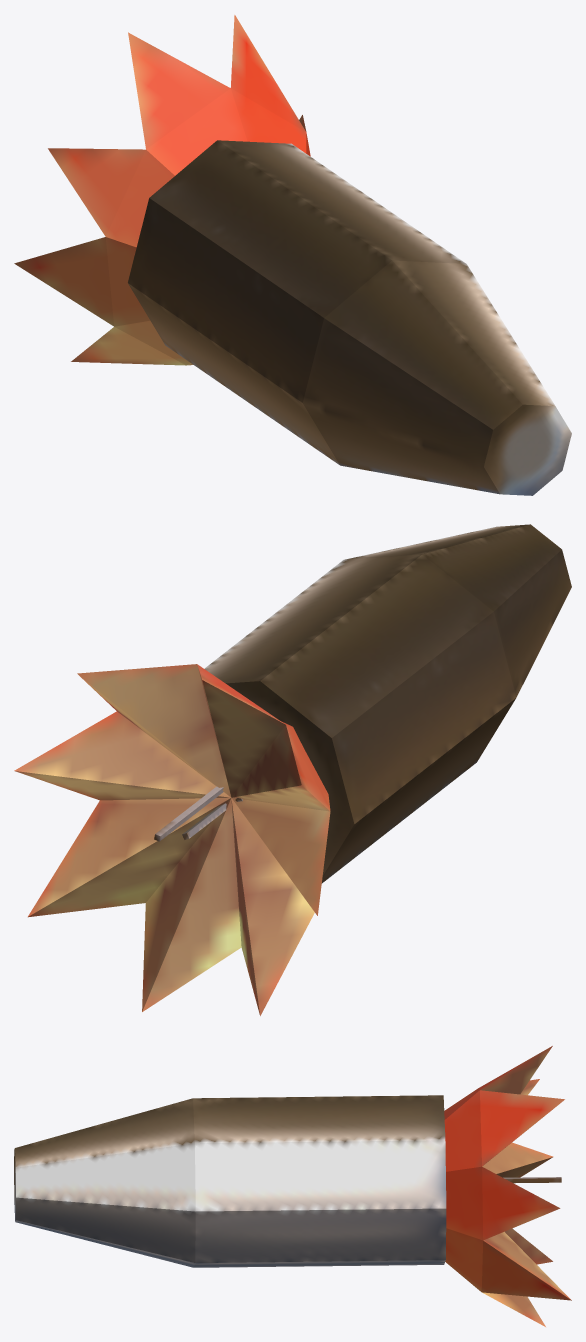
3 renders of one model, top to bottom at view 1: azimuth 30°, elevation 25°; view 2: azimuth 150°, elevation 25°; view 3: azimuth 270°, elevation 25°, orthographic. The views are drawn at different scales.
Visible parts, largest first — view 1: Bala_Cylinder.003, Fogonazo_Cylinder.004; view 2: Bala_Cylinder.003, Fogonazo_Cylinder.004, Estela_1_Cube.006; view 3: Bala_Cylinder.003, Fogonazo_Cylinder.004.
Part boxes in pixels (x1,y1,x2,y2): Bala_Cylinder.003: [128, 140, 571, 495]; Fogonazo_Cylinder.004: [14, 15, 310, 365]; Bala_Cylinder.003: [204, 524, 571, 883]; Fogonazo_Cylinder.004: [14, 664, 330, 1015]; Estela_1_Cube.006: [154, 786, 223, 841]; Bala_Cylinder.003: [14, 1095, 446, 1267]; Fogonazo_Cylinder.004: [444, 1046, 571, 1326].
Size of the model in its own units: 0.3988 by 0.4479 by 0.8753.
